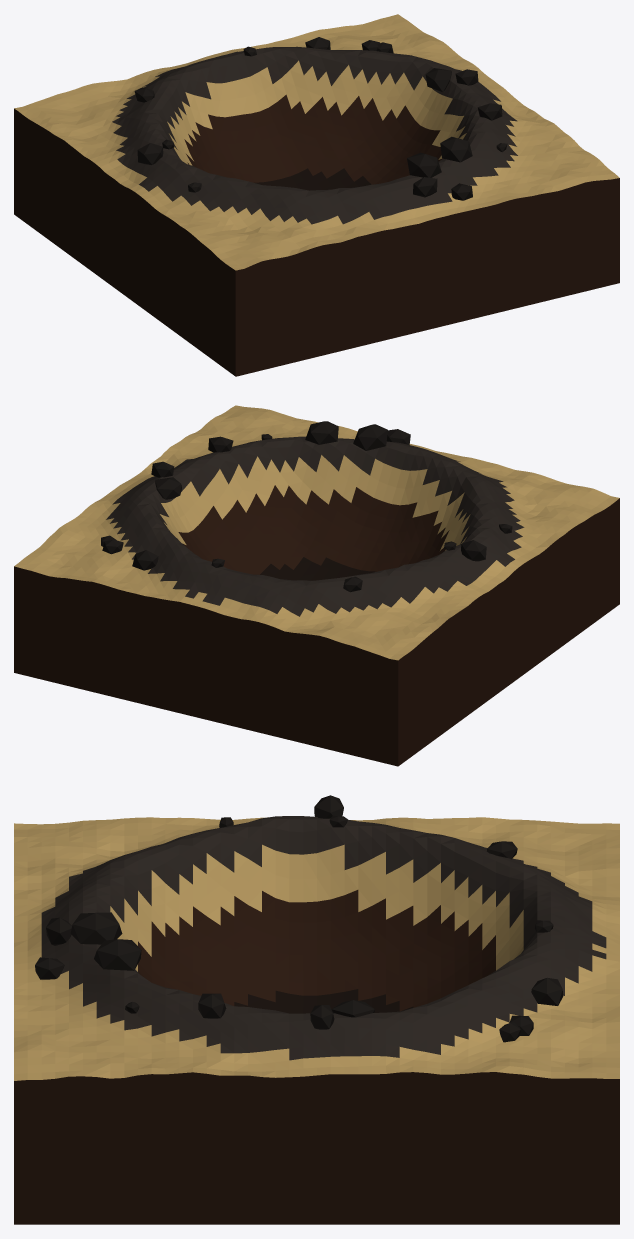
File: DISASTER_09_ImpactCrater.obj
3 views of the same model, one above another, from view 1: azimuth 30°, elevation 25°; view 2: azimuth 150°, elevation 25°; view 3: azimuth 270°, elevation 25° (orthographic). The views are drawn at different scales.
Visible parts, largest first — view 1: DISASTER_09_ImpactCrater_Terrain, DISASTER_09_ImpactCrater_Ejecta_Boulders; view 2: DISASTER_09_ImpactCrater_Terrain, DISASTER_09_ImpactCrater_Ejecta_Boulders; view 3: DISASTER_09_ImpactCrater_Terrain, DISASTER_09_ImpactCrater_Ejecta_Boulders.
Part boxes in pixels (left/top/right/bottom): DISASTER_09_ImpactCrater_Terrain: left=14, top=14, right=619, bottom=376; DISASTER_09_ImpactCrater_Ejecta_Boulders: left=134, top=37, right=507, bottom=200; DISASTER_09_ImpactCrater_Terrain: left=14, top=405, right=619, bottom=766; DISASTER_09_ImpactCrater_Ejecta_Boulders: left=101, top=421, right=512, bottom=592; DISASTER_09_ImpactCrater_Terrain: left=14, top=816, right=619, bottom=1224; DISASTER_09_ImpactCrater_Ejecta_Boulders: left=35, top=795, right=563, bottom=1042.
Size of the model in its own units: 10 by 3.67 by 10.
